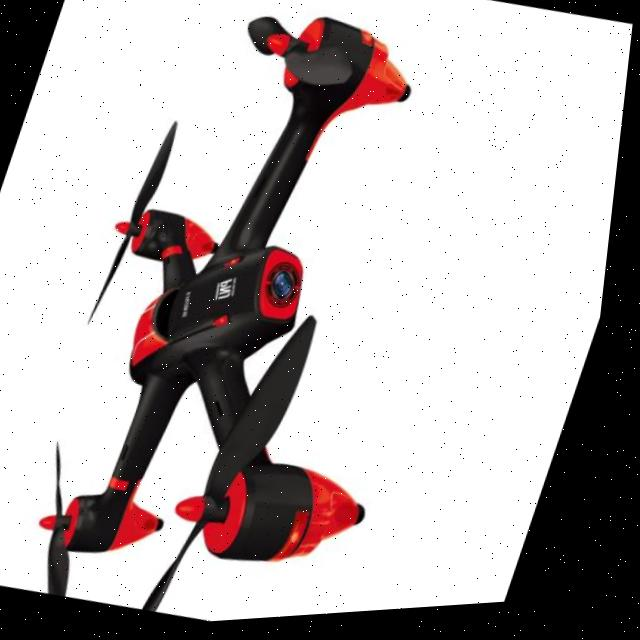drones: (0, 0, 578, 639)
